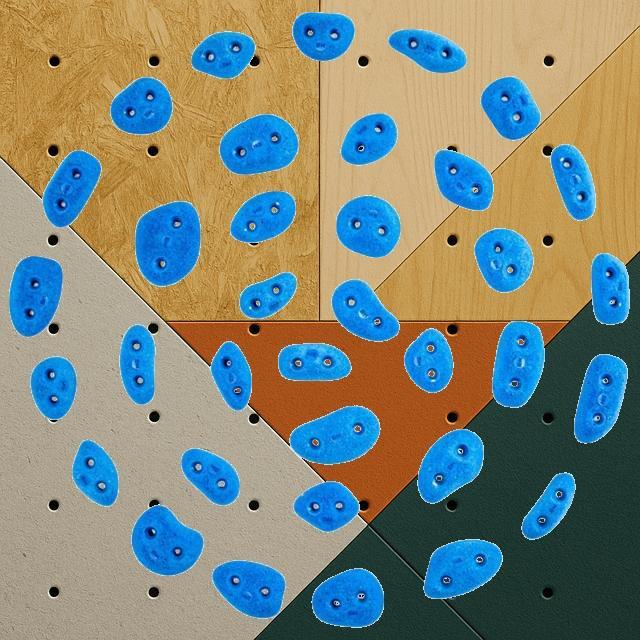Crimp: (134, 200, 200, 286), (288, 404, 380, 464), (130, 504, 202, 576), (572, 352, 628, 442), (416, 428, 484, 502), (219, 112, 299, 174), (42, 148, 102, 228), (423, 538, 502, 598), (491, 319, 544, 406), (8, 255, 64, 337), (329, 278, 398, 342), (311, 566, 383, 626), (212, 558, 284, 618), (336, 195, 400, 258), (480, 75, 540, 139), (473, 228, 533, 292), (520, 472, 576, 538), (433, 150, 493, 210), (110, 75, 172, 133), (388, 27, 467, 72), (550, 143, 596, 220), (228, 189, 296, 241), (180, 447, 240, 505), (293, 480, 359, 532), (72, 438, 120, 506), (404, 328, 454, 392), (292, 11, 354, 61), (191, 30, 255, 78), (30, 356, 78, 420), (340, 112, 396, 164), (210, 342, 252, 411), (120, 324, 156, 404), (590, 252, 630, 324), (278, 343, 352, 381), (238, 271, 296, 319)
